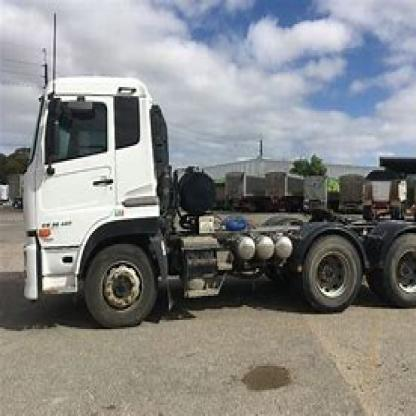dump_truck: (6, 70, 415, 316)
